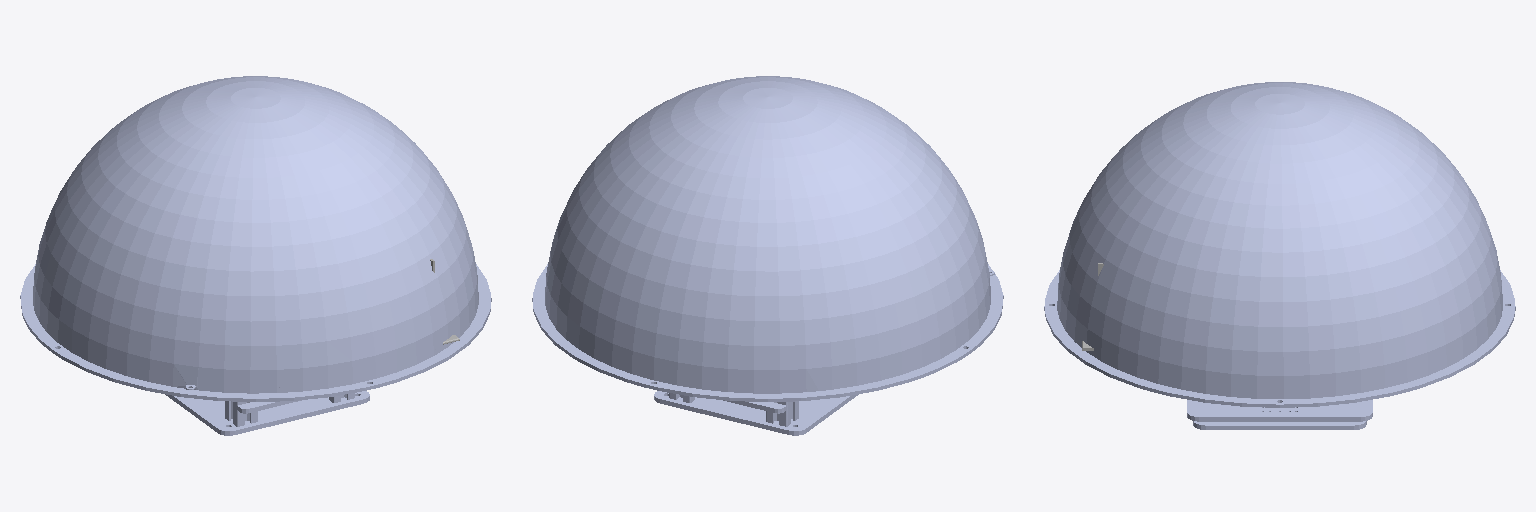
The robot description file, URDF, robot "sensor_tower":
<?xml version="1.0" encoding="utf-8"?>
<!-- This URDF was automatically created by SolidWorks to URDF Exporter! Originally created by [author] ([email redacted]) 
     Commit Version: 1.6.0-1-g15f4949  Build Version: 1.6.7594.29634
     For more information, please see http://wiki.ros.org/sw_urdf_exporter -->
<robot
  name="sensor_tower">
  <link
    name="sensor_tower_base_link">
    <inertial>
      <origin
        xyz="0.003984 3.4336E-05 0.10083"
        rpy="0 0 0" />
      <mass
        value="1.2526" />
      <inertia
        ixx="0.0083195"
        ixy="-9.8565E-07"
        ixz="-1.6518E-06"
        iyy="0.0067454"
        iyz="-1.1856E-06"
        izz="0.013516" />
    </inertial>
    <visual>
      <origin
        xyz="0 0 0"
        rpy="0 0 0" />
      <geometry>
        <mesh
          filename="package://sensor_tower/meshes/sensor_tower_base_link.STL" />
      </geometry>
      <material
        name="">
        <color
          rgba="0.79216 0.81961 0.93333 1" />
      </material>
    </visual>
    <collision>
      <origin
        xyz="0 0 0"
        rpy="0 0 0" />
      <geometry>
        <mesh
          filename="package://sensor_tower/meshes/sensor_tower_base_link.STL" />
      </geometry>
    </collision>
  </link>
  <link
    name="mmwave_left_back_link">
    <inertial>
      <origin
        xyz="-0.0030485 0.020458 -0.043759"
        rpy="0 0 0" />
      <mass
        value="0.016747" />
      <inertia
        ixx="7.8406E-06"
        ixy="2.0849E-07"
        ixz="-6.8678E-08"
        iyy="2.519E-06"
        iyz="-4.6362E-07"
        izz="7.2999E-06" />
    </inertial>
    <visual>
      <origin
        xyz="0 0 0"
        rpy="0 0 0" />
      <geometry>
        <mesh
          filename="package://sensor_tower/meshes/mmwave_left_back_link.STL" />
      </geometry>
      <material
        name="">
        <color
          rgba="0.75294 0.75294 0.75294 1" />
      </material>
    </visual>
    <collision>
      <origin
        xyz="0 0 0"
        rpy="0 0 0" />
      <geometry>
        <mesh
          filename="package://sensor_tower/meshes/mmwave_left_back_link.STL" />
      </geometry>
    </collision>
  </link>
  <joint
    name="mmwave_left_back_joint"
    type="fixed">
    <origin
      xyz="0.0085 0.15025 0.14446"
      rpy="0 0 1.5708" />
    <parent
      link="sensor_tower_base_link" />
    <child
      link="mmwave_left_back_link" />
    <axis
      xyz="0 0 0" />
  </joint>
  <link
    name="mmwave_right_back_link">
    <inertial>
      <origin
        xyz="-0.0030485 0.020458 -0.043759"
        rpy="0 0 0" />
      <mass
        value="0.016747" />
      <inertia
        ixx="7.8406E-06"
        ixy="2.0849E-07"
        ixz="-6.8678E-08"
        iyy="2.519E-06"
        iyz="-4.6362E-07"
        izz="7.2999E-06" />
    </inertial>
    <visual>
      <origin
        xyz="0 0 0"
        rpy="0 0 0" />
      <geometry>
        <mesh
          filename="package://sensor_tower/meshes/mmwave_right_back_link.STL" />
      </geometry>
      <material
        name="">
        <color
          rgba="0.75294 0.75294 0.75294 1" />
      </material>
    </visual>
    <collision>
      <origin
        xyz="0 0 0"
        rpy="0 0 0" />
      <geometry>
        <mesh
          filename="package://sensor_tower/meshes/mmwave_right_back_link.STL" />
      </geometry>
    </collision>
  </link>
  <joint
    name="mmwave_right_back_joint"
    type="fixed">
    <origin
      xyz="-0.0285 -0.15025 0.14446"
      rpy="0 0 -1.5708" />
    <parent
      link="sensor_tower_base_link" />
    <child
      link="mmwave_right_back_link" />
    <axis
      xyz="0 0 0" />
    <limit
      lower="0"
      upper="0"
      effort="0"
      velocity="0" />
  </joint>
  <link
    name="d435_link">
    <inertial>
      <origin
        xyz="-0.0202667517431304 0.0326544493602817 -0.00249222307026498"
        rpy="0 0 0" />
      <mass
        value="0.0713393681617005" />
      <inertia
        ixx="4.09614117793898E-05"
        ixy="2.4434010123447E-07"
        ixz="-9.96064079710996E-07"
        iyy="1.2607227134116E-05"
        iyz="-2.8099549776237E-09"
        izz="3.79592048075555E-05" />
    </inertial>
    <visual>
      <origin
        xyz="0 0 0"
        rpy="0 0 0" />
      <geometry>
        <mesh
          filename="package://sensor_tower/meshes/d435_link.STL" />
      </geometry>
      <material
        name="">
        <color
          rgba="0.792156862745098 0.819607843137255 0.933333333333333 1" />
      </material>
    </visual>
    <collision>
      <origin
        xyz="0 0 0"
        rpy="0 0 0" />
      <geometry>
        <mesh
          filename="package://sensor_tower/meshes/d435_link.STL" />
      </geometry>
    </collision>
  </link>
  <joint
    name="d435_joint"
    type="fixed">
    <origin
      xyz="0.0993499999999993 -0.0324999999999998 0.197622438293805"
      rpy="0 0 0" />
    <parent
      link="sensor_tower_base_link" />
    <child
      link="d435_link" />
    <axis
      xyz="0 0 0" />
  </joint>
  <link
    name="mmwave_left_link">
    <inertial>
      <origin
        xyz="-0.0030485 0.020458 -0.043759"
        rpy="0 0 0" />
      <mass
        value="0.016747" />
      <inertia
        ixx="7.8406E-06"
        ixy="2.0849E-07"
        ixz="-6.8678E-08"
        iyy="2.519E-06"
        iyz="-4.6362E-07"
        izz="7.2999E-06" />
    </inertial>
    <visual>
      <origin
        xyz="0 0 0"
        rpy="0 0 0" />
      <geometry>
        <mesh
          filename="package://sensor_tower/meshes/mmwave_left_link.STL" />
      </geometry>
      <material
        name="">
        <color
          rgba="0.75294 0.75294 0.75294 1" />
      </material>
    </visual>
    <collision>
      <origin
        xyz="0 0 0"
        rpy="0 0 0" />
      <geometry>
        <mesh
          filename="package://sensor_tower/meshes/mmwave_left_link.STL" />
      </geometry>
    </collision>
  </link>
  <joint
    name="mmwave_left_joint"
    type="fixed">
    <origin
      xyz="0.10906 0.1079 0.14446"
      rpy="0 0 0.7854" />
    <parent
      link="sensor_tower_base_link" />
    <child
      link="mmwave_left_link" />
    <axis
      xyz="0 0 0" />
  </joint>
  <link
    name="mmwave_right_link">
    <inertial>
      <origin
        xyz="-0.016622 0.01231 -0.043759"
        rpy="0 0 0" />
      <mass
        value="0.016747" />
      <inertia
        ixx="4.9713E-06"
        ixy="2.6608E-06"
        ixz="2.7926E-07"
        iyy="5.3883E-06"
        iyz="-3.7639E-07"
        izz="7.2999E-06" />
    </inertial>
    <visual>
      <origin
        xyz="0 0 0"
        rpy="0 0 0" />
      <geometry>
        <mesh
          filename="package://sensor_tower/meshes/mmwave_right_link.STL" />
      </geometry>
      <material
        name="">
        <color
          rgba="0.75294 0.75294 0.75294 1" />
      </material>
    </visual>
    <collision>
      <origin
        xyz="0 0 0"
        rpy="0 0 0" />
      <geometry>
        <mesh
          filename="package://sensor_tower/meshes/mmwave_right_link.STL" />
      </geometry>
    </collision>
  </link>
  <joint
    name="mmwave_right_joint"
    type="fixed">
    <origin
      xyz="0.082901 -0.13406 0.14446"
      rpy="0 0 -0.78548" />
    <parent
      link="sensor_tower_base_link" />
    <child
      link="mmwave_right_link" />
    <axis
      xyz="0 0 0" />
  </joint>
</robot>

--- Render facts (derived) ---
3 views of the same robot in one strip: view 1: azimuth 30°, elevation 25°; view 2: azimuth 150°, elevation 25°; view 3: azimuth 270°, elevation 25° (orthographic).
Model sensor_tower with 6 links and 5 joints (5 fixed), rooted at sensor_tower_base_link, posed all joints at 0.
Links seen in each view (by area): view 1: sensor_tower_base_link; view 2: sensor_tower_base_link; view 3: sensor_tower_base_link.
Link boxes in pixels (<box>): sensor_tower_base_link: <box>20,76,491,435</box>; sensor_tower_base_link: <box>532,76,1003,435</box>; sensor_tower_base_link: <box>1044,82,1515,429</box>.
Bounding box of the posed robot: 0.38 × 0.3799 × 0.2586 m (x, y, z).
6 mesh visuals loaded from 6 distinct referenced files (6 binary STL).